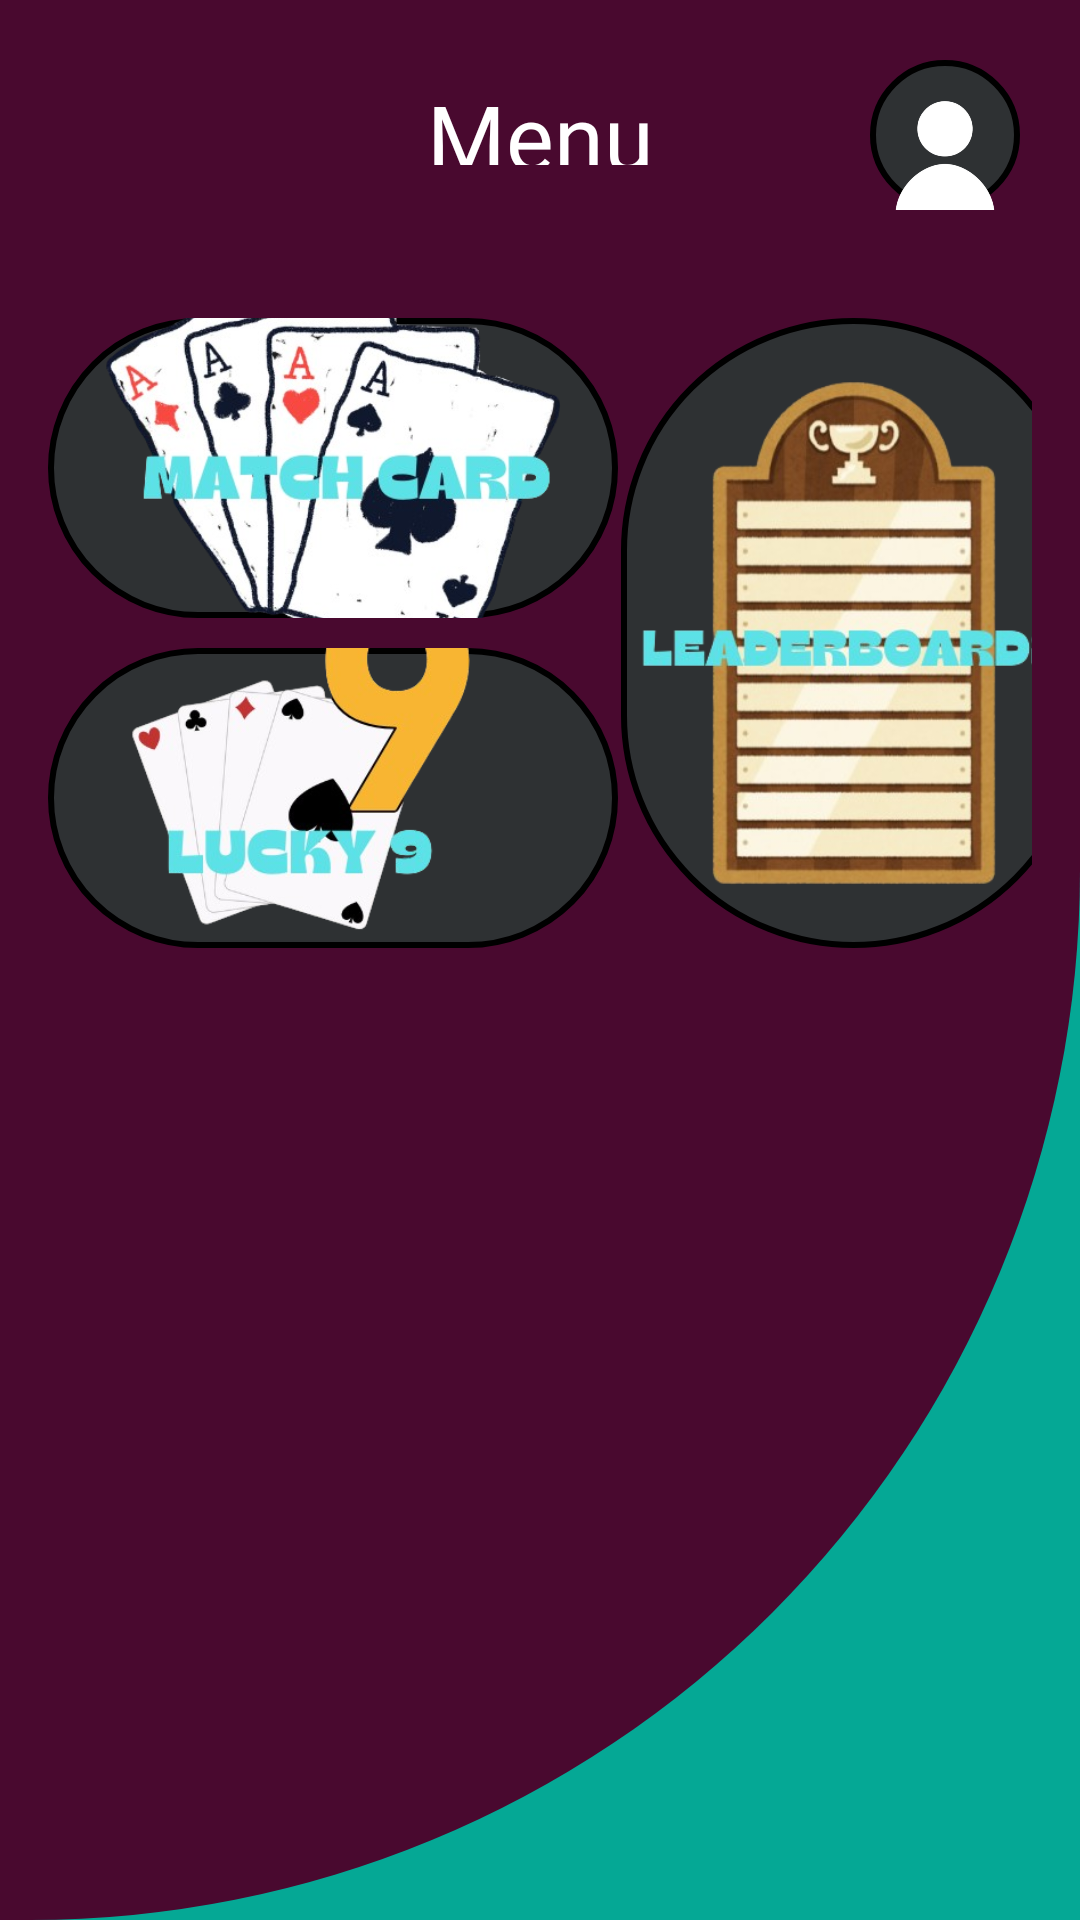

Icons on this 1080x1920 Android screen, each with its box as [x1=x1, y1=y1, x2=x2, y2=y2]:
Profile Picture: [x1=870, y1=60, x2=1020, y2=210]
